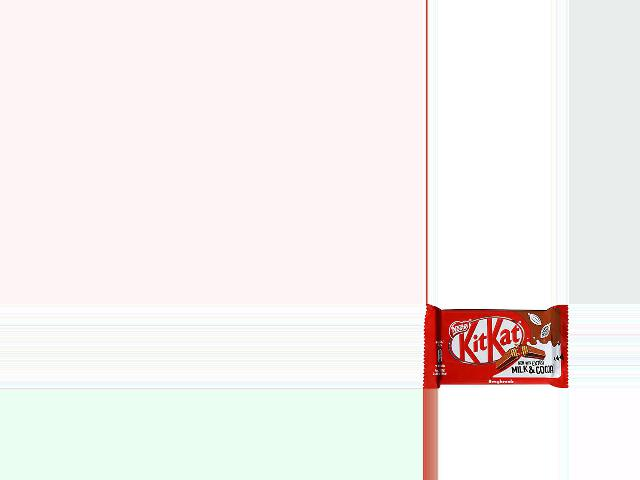chocolate: (424, 304, 569, 389)
